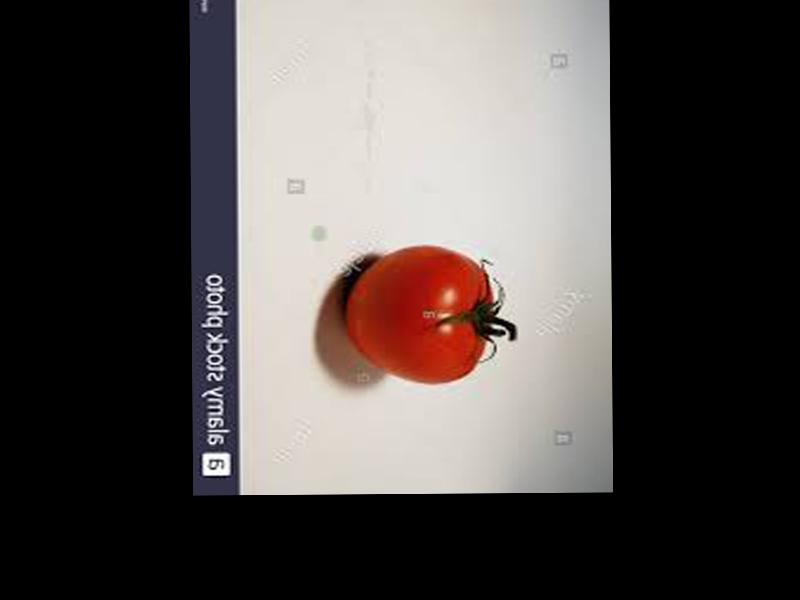Tomato: (344, 245, 491, 383)
